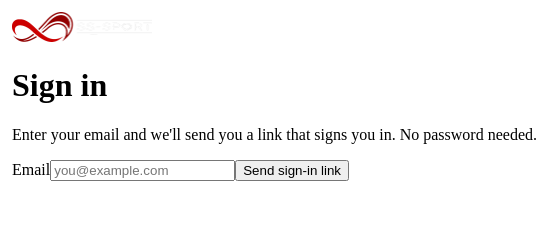
Test: SignInPanel (W-1, P-5 web): asking for a link › asks to wait when there were too many links
Type "scout@club.com" into the field labelled "Email" at coordinates (143, 170), box [50,160,235,181]
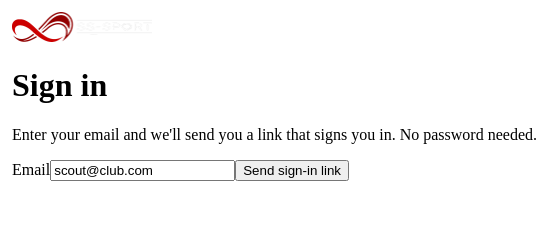
Click the button "Send sign-in link" at coordinates (292, 170), box [235,160,349,181]
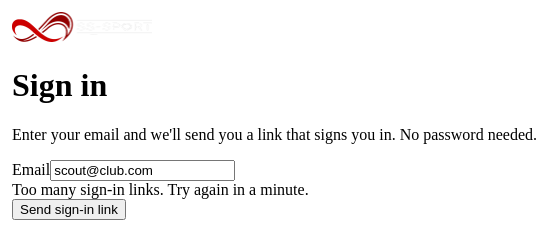
Check: the text "Too many sign-in links. Try again in a minute." is shown, box [12,181,309,198]
